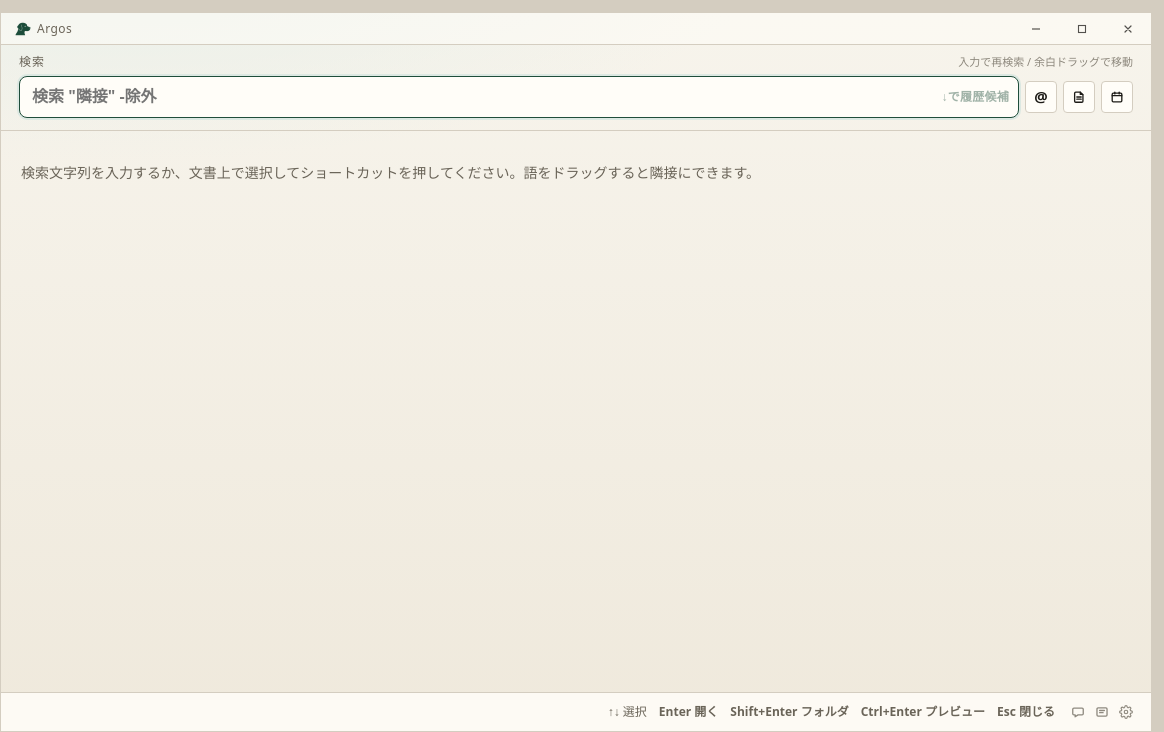
Test: Popup keyboard › highlighted Enter on a typed query closes the overlay and does not open the result
Type "売掛金" into the field at (519,97), box left=19, top=76, right=1019, bottom=118
Wait 500 ms
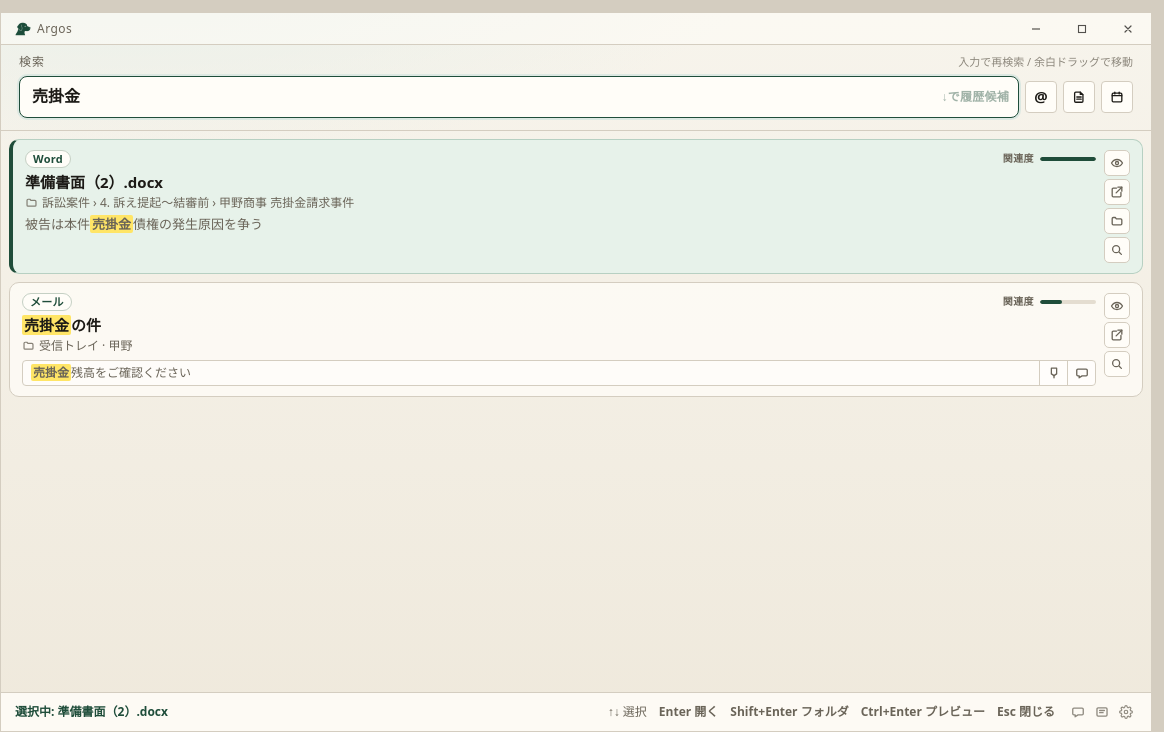
Press ArrowDown
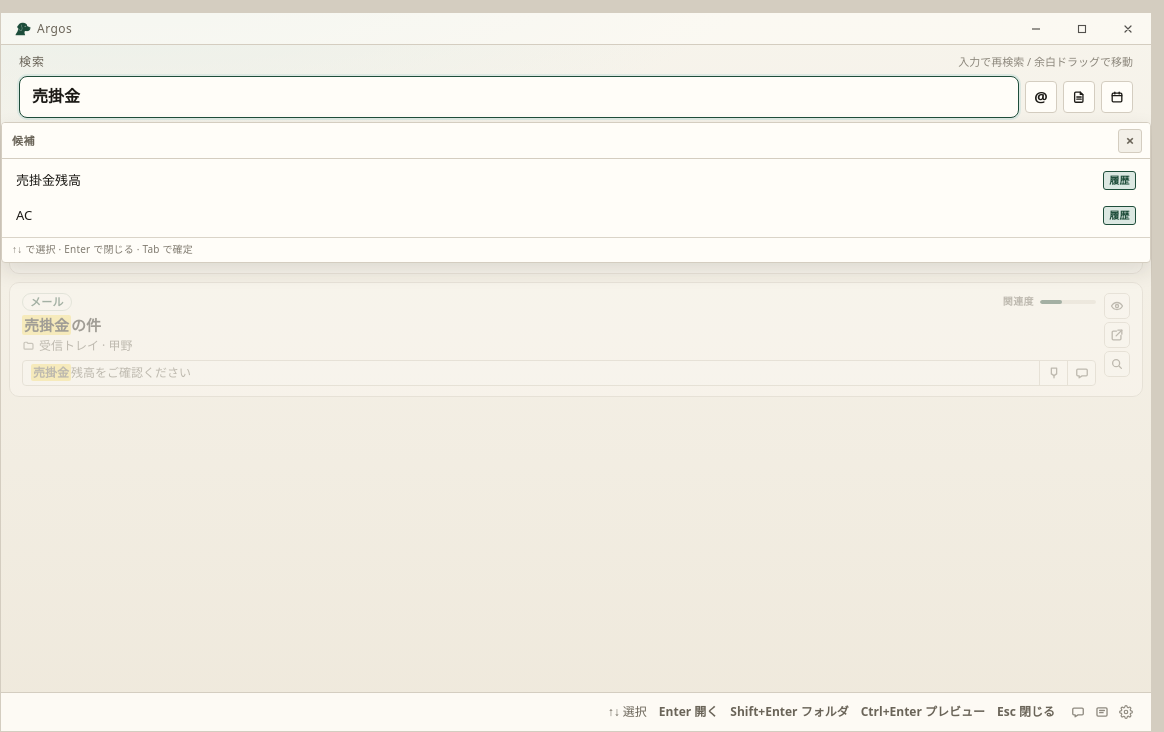
Press ArrowDown
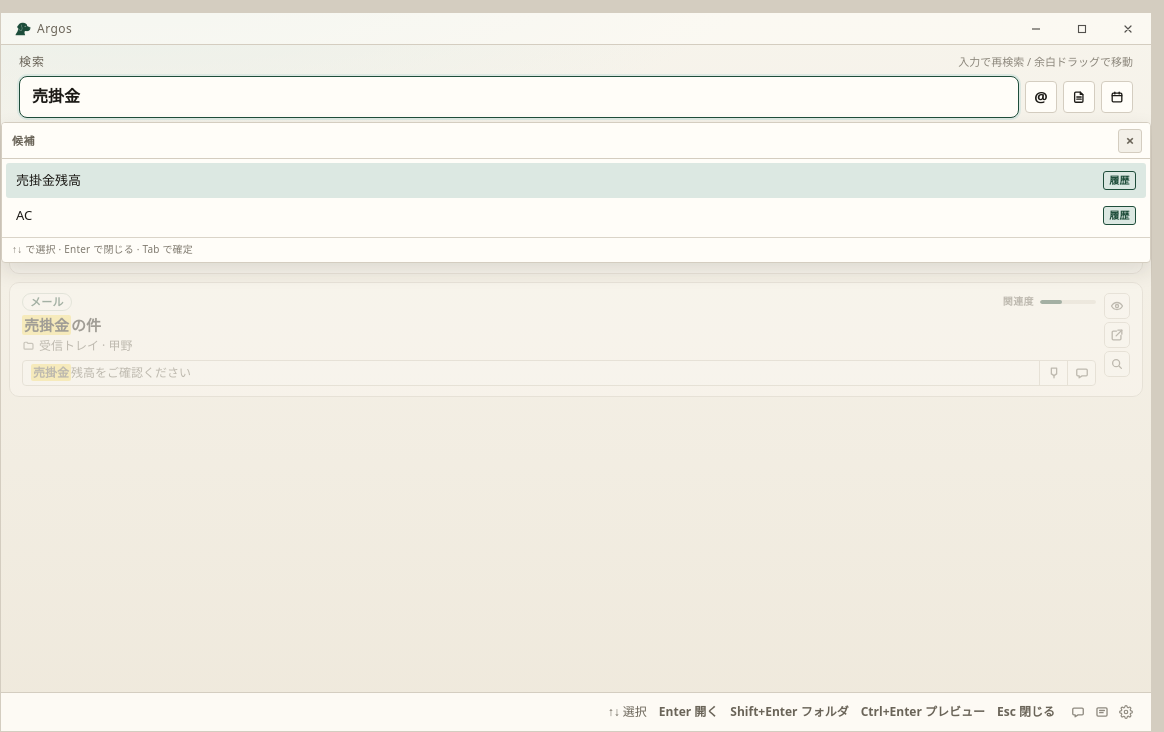
Expected: the option with class "is-active" shows "売掛金残高", left=6, top=163, right=1146, bottom=198
Press Enter
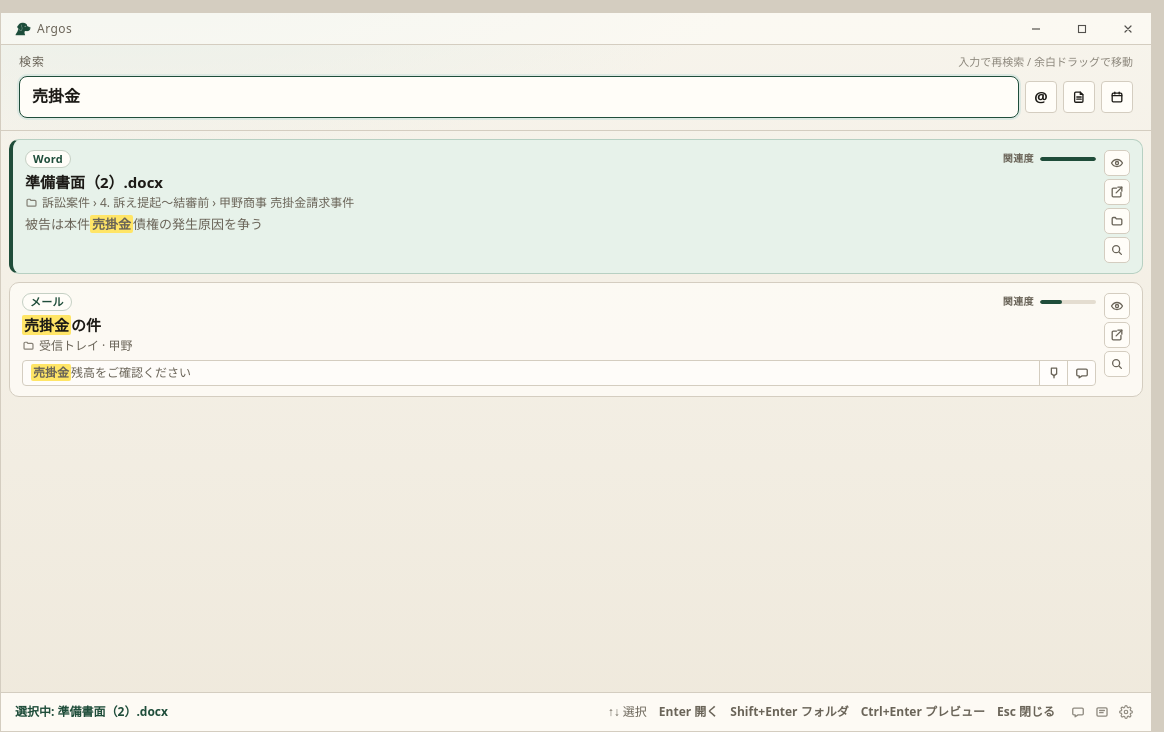
Expected: the list "検索候補" is gone
